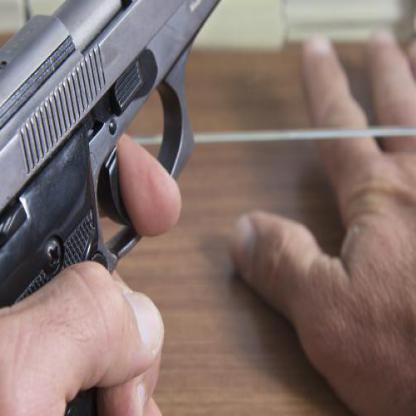gun: (0, 0, 274, 415)
